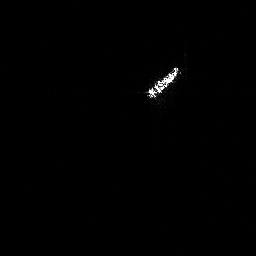ship: (145, 64, 182, 104)
